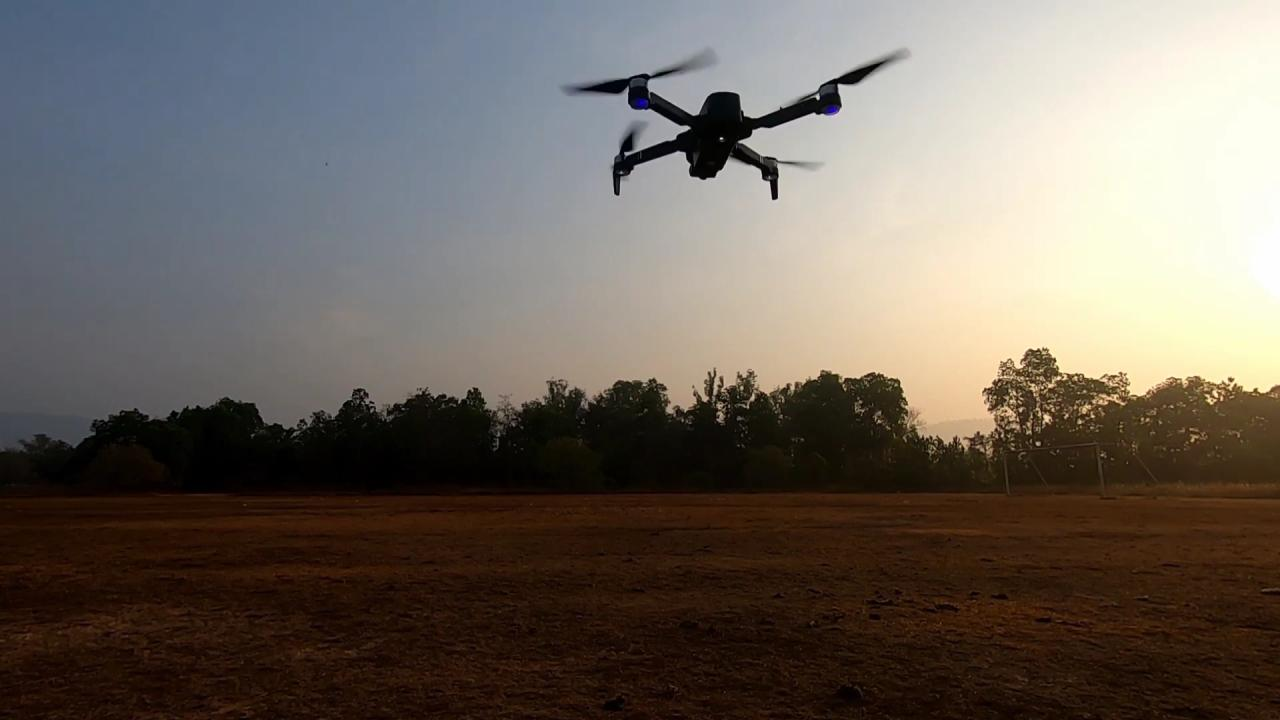Drone: (548, 42, 924, 218)
